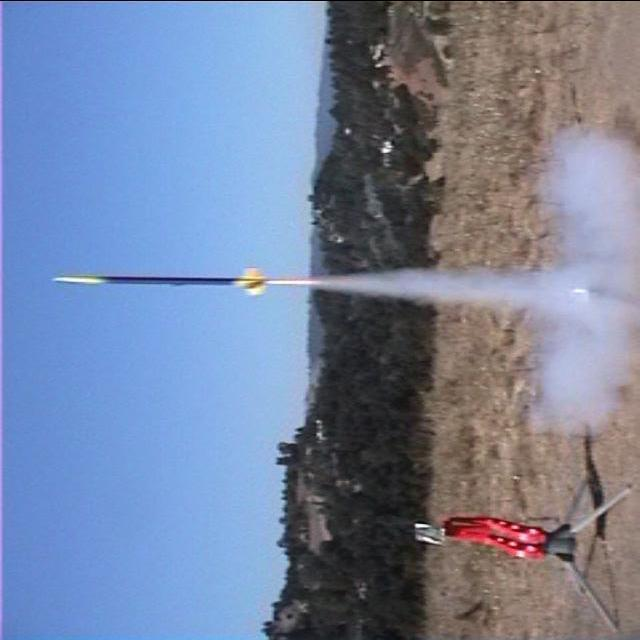missile: (54, 268, 264, 298)
